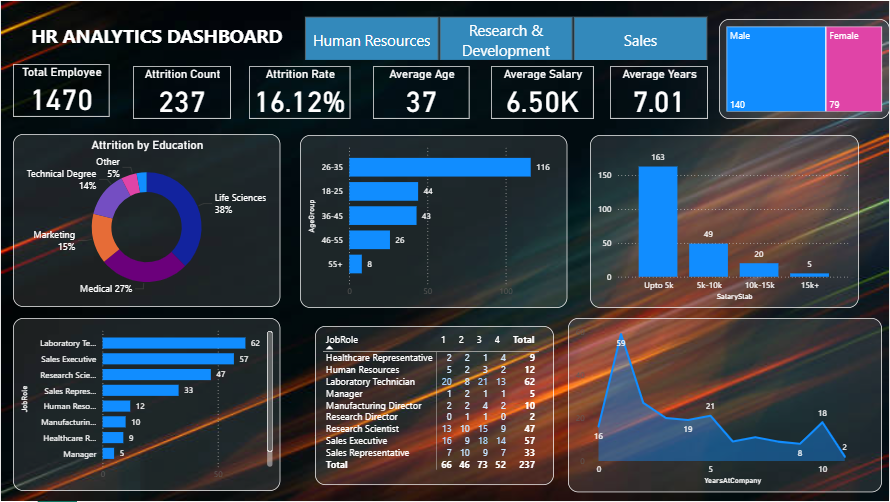

Layout of this report page (visuals, bound fields, positions):
{"tool":"powerbi","page":{"name":"Page 1","canvas":[1280,720],"ordinal":0},"visuals":[{"type":"card","title":"Total Employee","fields":{"Values":["CountNonNull(HR_Analytics.EmpID)"]},"box":[17.2,90.9,139.2,75.6],"z":0},{"type":"card","title":"Attrition Count","fields":{"Values":["Sum(HR_Analytics.Attrition Count)"]},"box":[190.7,94.3,140.9,75.6],"z":1000},{"type":"card","title":"Attrition Rate","fields":{"Values":["HR_Analytics.Attrition Rate"]},"box":[357.4,94.3,146,75.6],"z":2000},{"type":"card","title":"Average Age","fields":{"Values":["Avg(HR_Analytics.Age)"]},"box":[536.1,94.3,139.2,75.6],"z":3000},{"type":"card","title":"Average Salary","fields":{"Values":["Avg(HR_Analytics.MonthlyIncome)"]},"box":[706.1,94.3,147.8,75.6],"z":4000},{"type":"card","title":"Average Years","fields":{"Values":["Avg(HR_Analytics.YearsAtCompany)"]},"box":[876.2,94.3,140.9,75.6],"z":5000},{"type":"donutChart","title":"Attrition by Education","fields":{"Category":["HR_Analytics.EducationField"],"Y":["Sum(HR_Analytics.Attrition Count)"]},"box":[17.2,192,384.9,249.1],"z":6000},{"type":"clusteredBarChart","title":"Attrition by Education","fields":{"Category":["HR_Analytics.AgeGroup"],"Y":["Sum(HR_Analytics.Attrition Count)"]},"box":[431.2,192.4,384.9,249.1],"z":7000},{"type":"pivotTable","fields":{"Rows":["HR_Analytics.JobRole"],"Columns":["HR_Analytics.JobSatisfaction"],"Values":["Sum(HR_Analytics.Attrition Count)"]},"box":[451.9,467.3,343.6,228.5],"z":8000},{"type":"columnChart","title":"Attrition by Education","fields":{"Category":["HR_Analytics.SalarySlab"],"Y":["Sum(HR_Analytics.Attrition Count)"]},"box":[848.8,192.4,386.6,249.1],"z":9000},{"type":"clusteredBarChart","title":"Attrition by Education","fields":{"Y":["Sum(HR_Analytics.Attrition Count)"],"Category":["HR_Analytics.JobRole"]},"box":[17.2,457,384.9,249.1],"z":10000},{"type":"areaChart","title":"Attrition by Education","fields":{"Category":["HR_Analytics.YearsAtCompany"],"Y":["Sum(HR_Analytics.Attrition Count)"]},"box":[816.1,457,451.9,250.8],"z":11000},{"type":"treemap","title":"Attrition by Education","fields":{"Group":["HR_Analytics.Gender"],"Values":["Sum(HR_Analytics.Attrition Count)"]},"box":[1034.3,25.8,245.7,144.3],"z":12000},{"type":"slicer","fields":{"Values":["HR_Analytics.Department"]},"box":[412.3,15.5,628.8,68.7],"z":12001},{"type":"textbox","box":[17.3,25.9,413.6,59.3],"z":12002}]}

Visuals, with their boxes in screenshot pixels (x1, y1, x2, y2), scaled from the page's 1280x720 canvas onto the 890x502 screenshot:
"Total Employee" card: <box>12,63,109,116</box>
"Attrition Count" card: <box>133,66,231,118</box>
"Attrition Rate" card: <box>249,66,350,118</box>
"Average Age" card: <box>373,66,470,118</box>
"Average Salary" card: <box>491,66,594,118</box>
"Average Years" card: <box>609,66,707,118</box>
"Attrition by Education" donutChart: <box>12,134,280,308</box>
"Attrition by Education" clusteredBarChart: <box>300,134,567,308</box>
pivotTable - HR_Analytics.JobRole x HR_Analytics.JobSatisfaction: <box>314,326,553,485</box>
"Attrition by Education" columnChart: <box>590,134,859,308</box>
"Attrition by Education" clusteredBarChart: <box>12,319,280,492</box>
"Attrition by Education" areaChart: <box>567,319,882,493</box>
"Attrition by Education" treemap: <box>719,18,889,119</box>
slicer - HR_Analytics.Department: <box>287,11,724,59</box>
textbox: <box>12,18,300,59</box>
